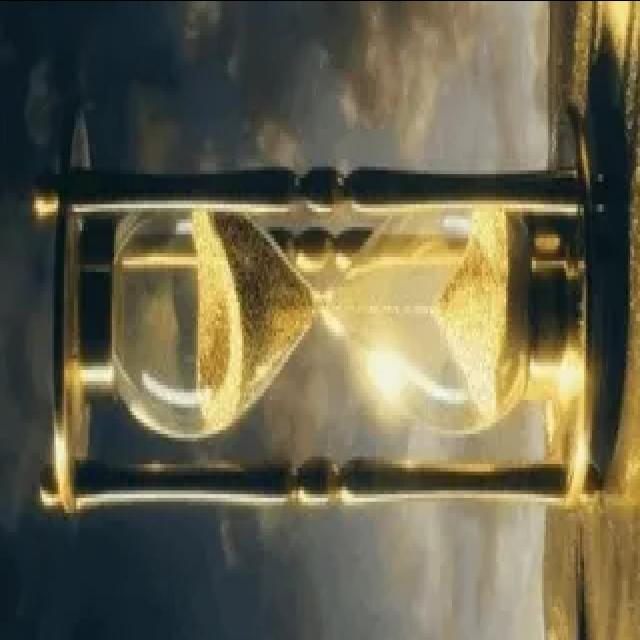clock: (23, 82, 620, 548)
